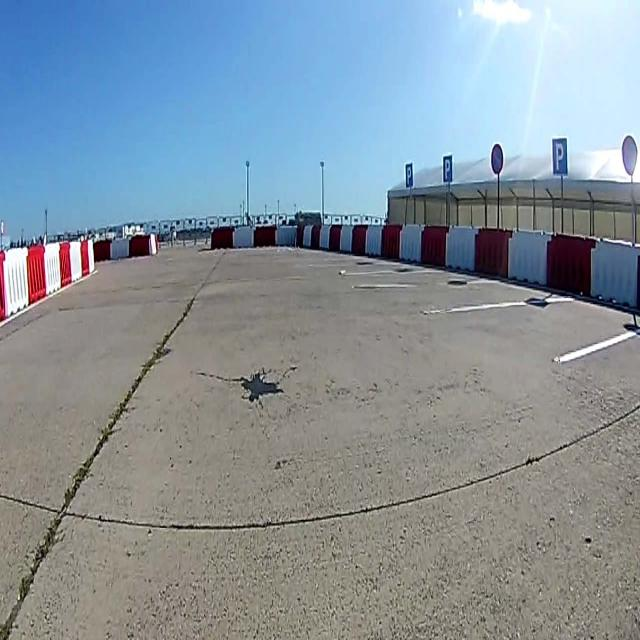park: (553, 138, 567, 176), (443, 155, 453, 183), (405, 162, 413, 189)
parkyasak: (622, 135, 636, 179), (491, 143, 504, 174)
